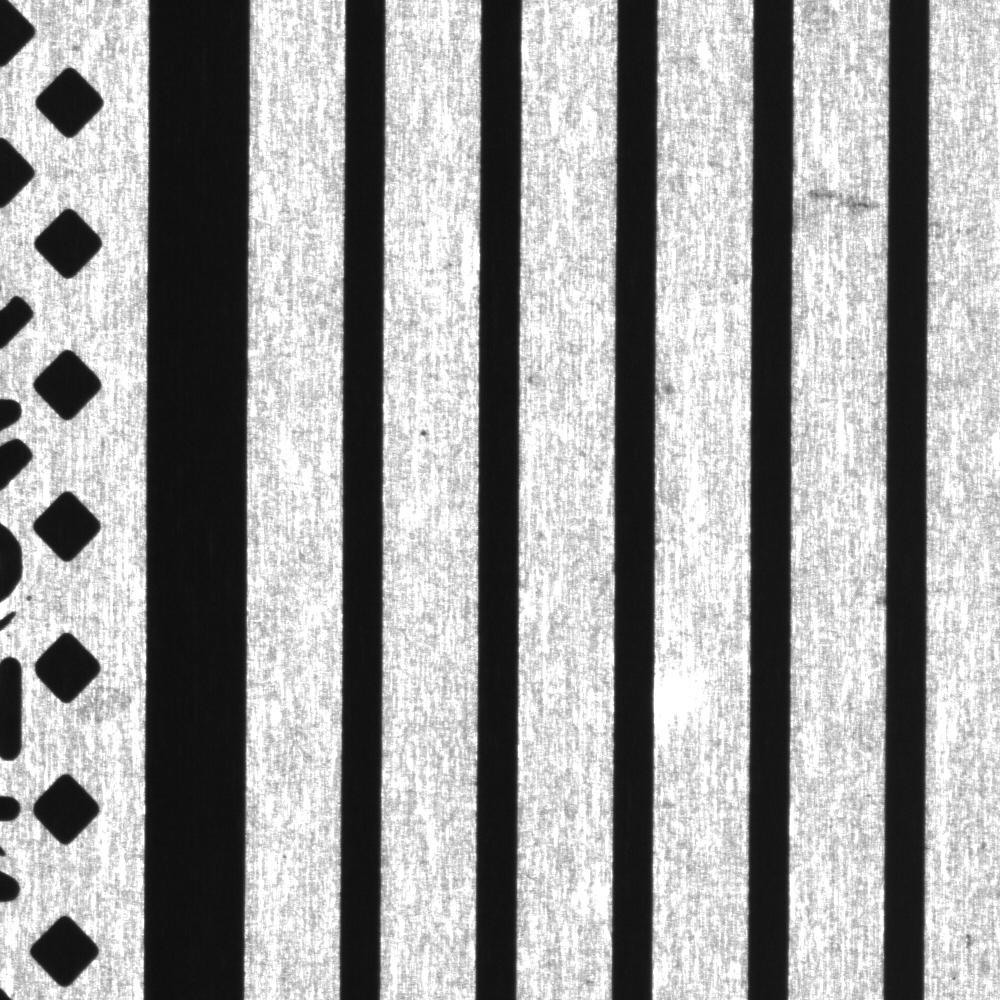Etching: (802, 171, 886, 221), (657, 362, 687, 407)
Pinhole: (406, 418, 439, 449)
